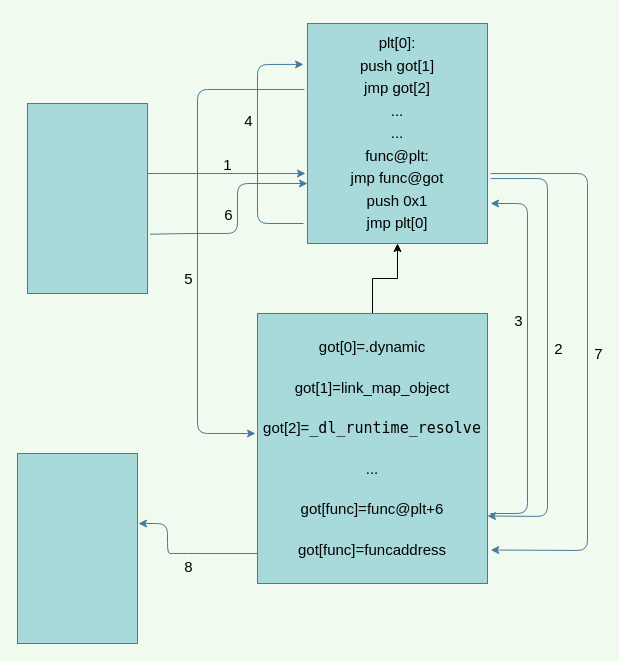
The diagram is 619 pixels wide and 661 high, and some of its shapes have lost their labels. Each missing label, with the centre of its shape:
"... ... call func@plt ... ... call func@plt ... ..." belongs at [87,198].
"func: ... ... .. ..." belongs at [77,548].
